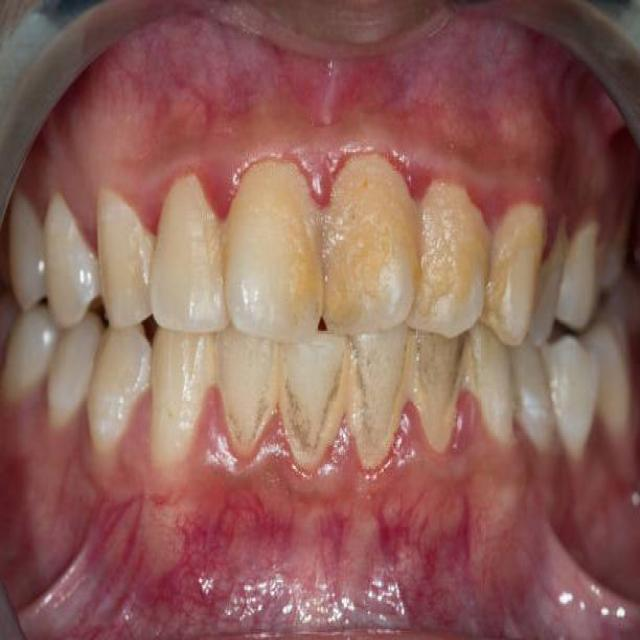Gingivitis: (161, 478, 303, 608), (373, 490, 479, 602), (301, 140, 336, 207), (202, 157, 238, 215), (398, 144, 430, 203)
